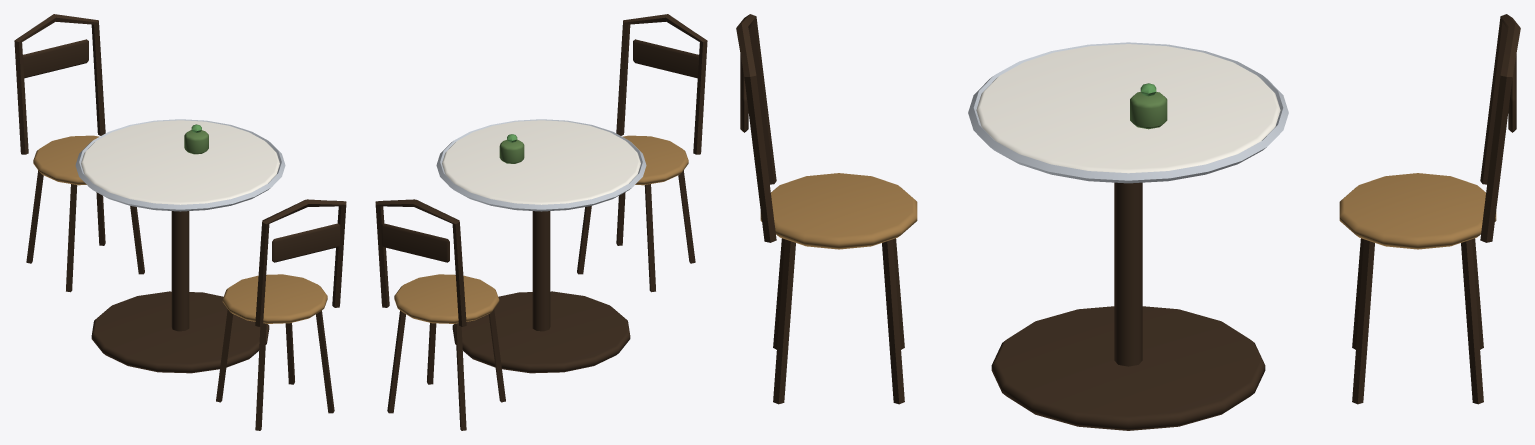
The model's file is bistro_set.glb.
3 views of the same model, side by side, from view 1: azimuth 30°, elevation 25°; view 2: azimuth 150°, elevation 25°; view 3: azimuth 270°, elevation 25° (orthographic). The views are drawn at different scales.
Visible parts, largest first — view 1: bistro_set; view 2: bistro_set; view 3: bistro_set.
Boxes of the visible parts, x1,y1,x2,y2 form: bistro_set: (14, 14, 346, 430); bistro_set: (375, 14, 707, 430); bistro_set: (736, 14, 1520, 430).
Bounding box in the file's own units: 0.798 × 0.9671 × 1.95.
